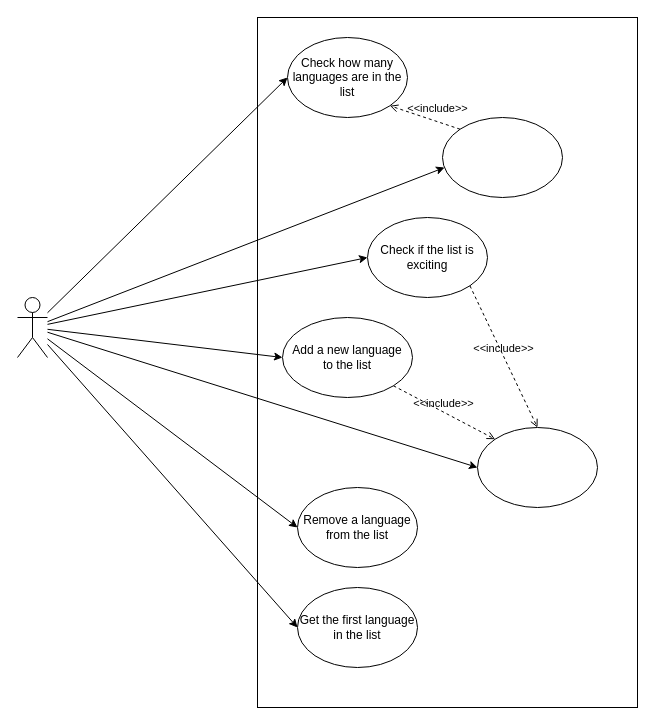
This 655x725 diagram has some shape labels left out. The shapes that lost their labels are listed below. From the top down, each one's centre as x and y in pixels, then its label:
the point at 502,157: Check if the list is empty
the point at 32,327: Karl
the point at 537,467: Check if a language is in the list
